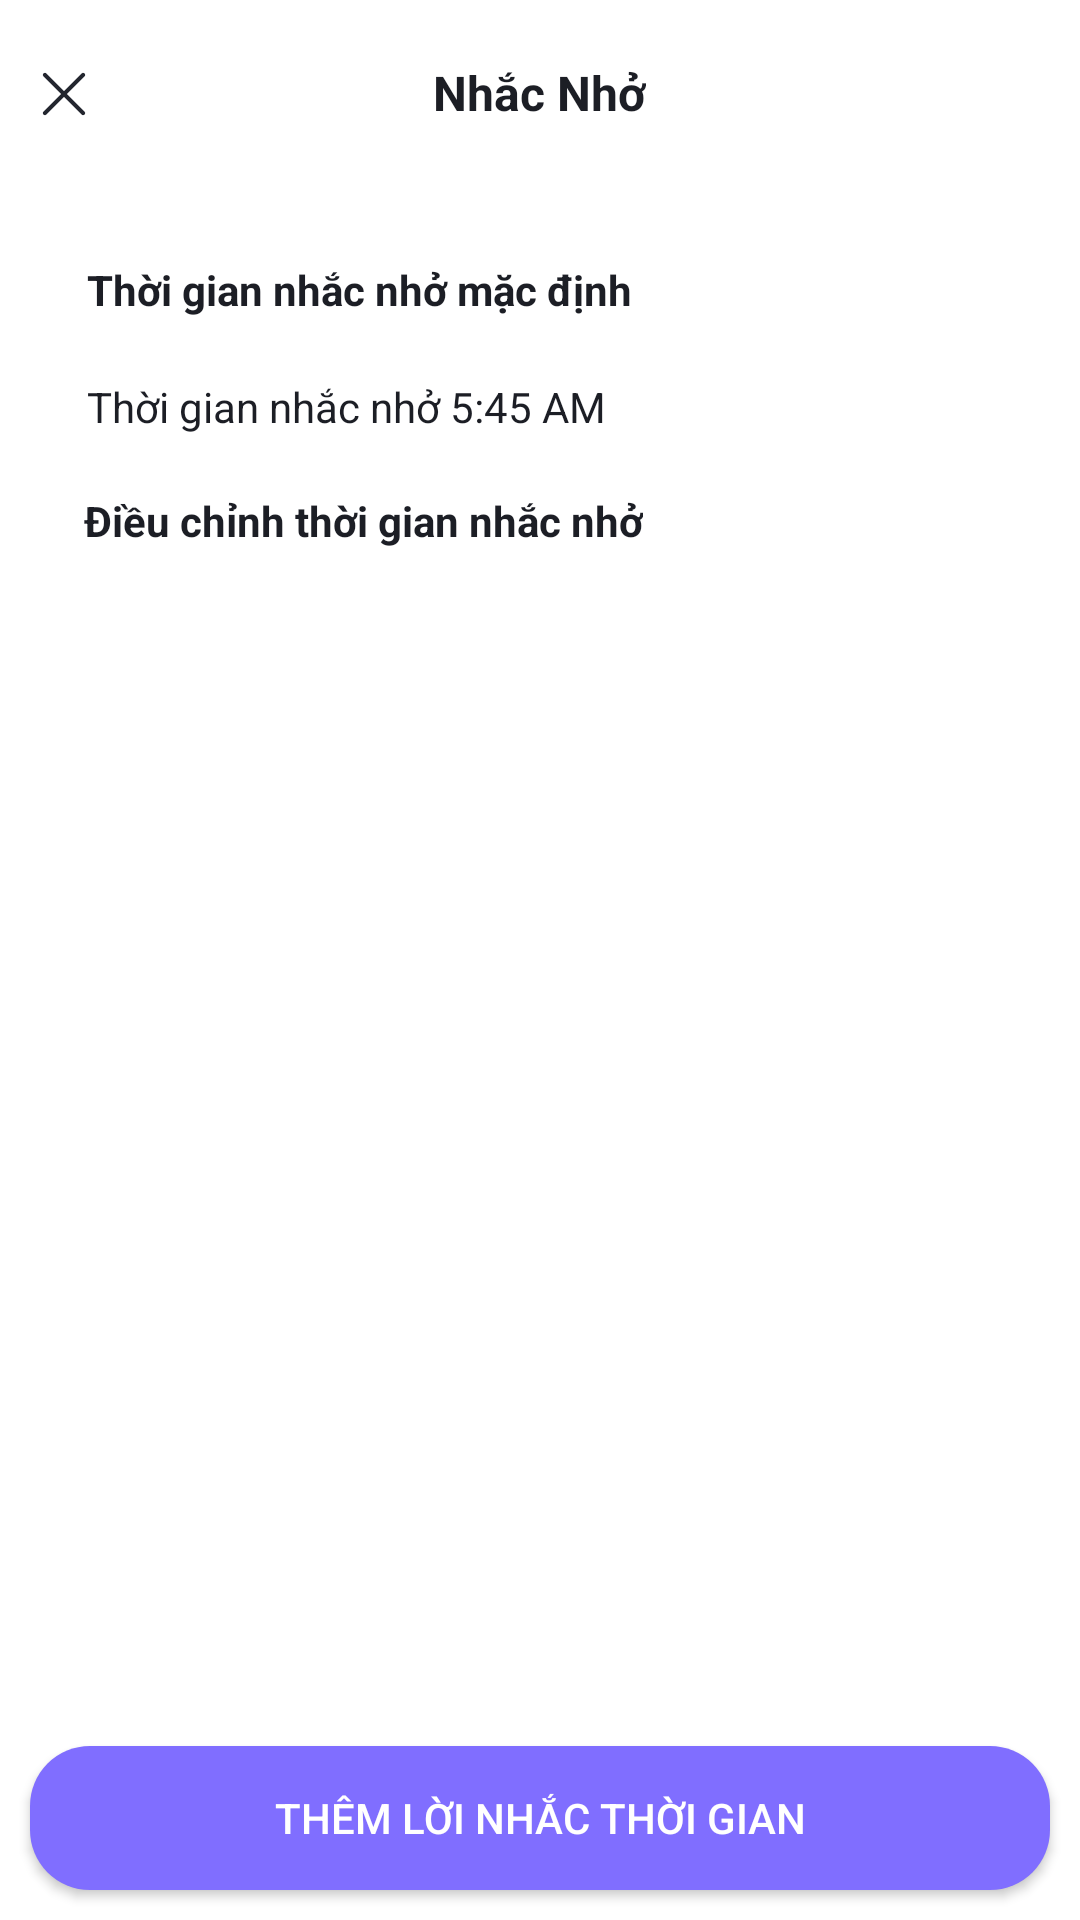

Named icons in this screenshot (1080×1920) and their bounding boxes, (x1, y1, x2, y2):
cancel: (43, 73, 85, 115)
